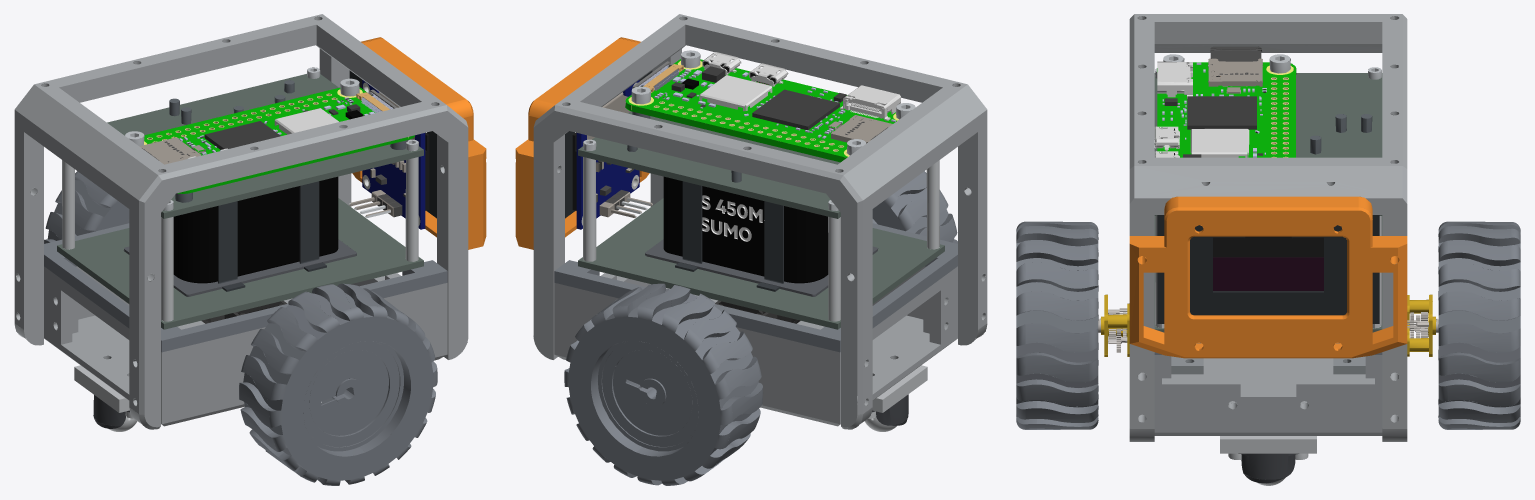
Rendered from triangle_bot.glb.
3 renders of one model, left to right at view 1: azimuth 30°, elevation 25°; view 2: azimuth 150°, elevation 25°; view 3: azimuth 270°, elevation 25°, orthographic. The views are drawn at different scales.
Visible parts, largest first — view 1: base_link, wheel_right, battery, compute, display, wheel_left; view 2: base_link, wheel_left, compute, battery, display, wheel_right; view 3: base_link, wheel_left, wheel_right, compute, display.
Part boxes in pixels (x1,y1,x2,y2): base_link: (14, 14, 486, 429); wheel_right: (239, 283, 437, 485); battery: (173, 176, 338, 283); compute: (139, 87, 414, 193); display: (349, 80, 429, 229); wheel_left: (44, 171, 129, 243); base_link: (515, 14, 987, 429); wheel_left: (564, 283, 763, 485); compute: (625, 52, 900, 162); battery: (663, 176, 828, 283); display: (572, 80, 652, 229); wheel_right: (872, 171, 957, 243); base_link: (1104, 14, 1432, 483); wheel_left: (1432, 221, 1520, 429); wheel_right: (1016, 221, 1104, 429); compute: (1154, 46, 1296, 157); display: (1213, 236, 1323, 290).
Bounding box in the file's own units: 0.0942 × 0.0788 × 0.109.
